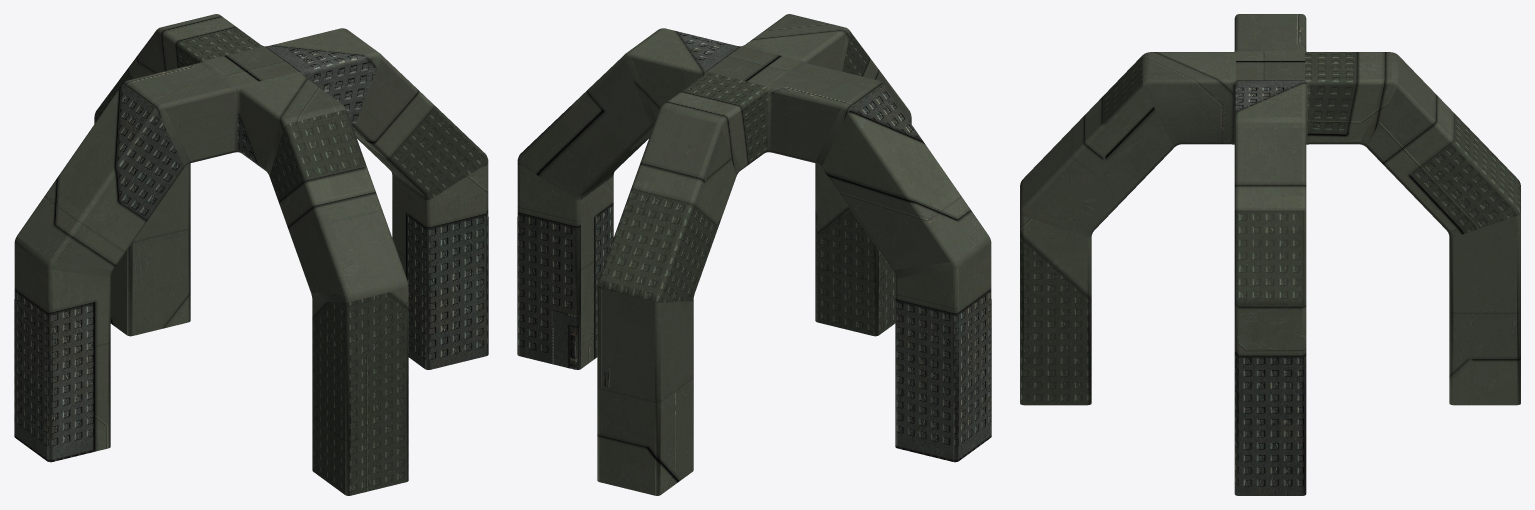
The model's file is Thing_Bigger.obj.
The picture shows the model from 3 angles, left to right: view 1: azimuth 30°, elevation 25°; view 2: azimuth 150°, elevation 25°; view 3: azimuth 270°, elevation 25°; orthographic projection.
Visible parts, largest first — view 1: cross_clean; view 2: cross_clean; view 3: cross_clean.
Boxes of the visible parts, bbox=[...] form: cross_clean: bbox=[14, 14, 488, 495]; cross_clean: bbox=[517, 14, 991, 495]; cross_clean: bbox=[1020, 14, 1520, 495].
Bounding box in the file's own units: 1344 × 960 × 1344.
